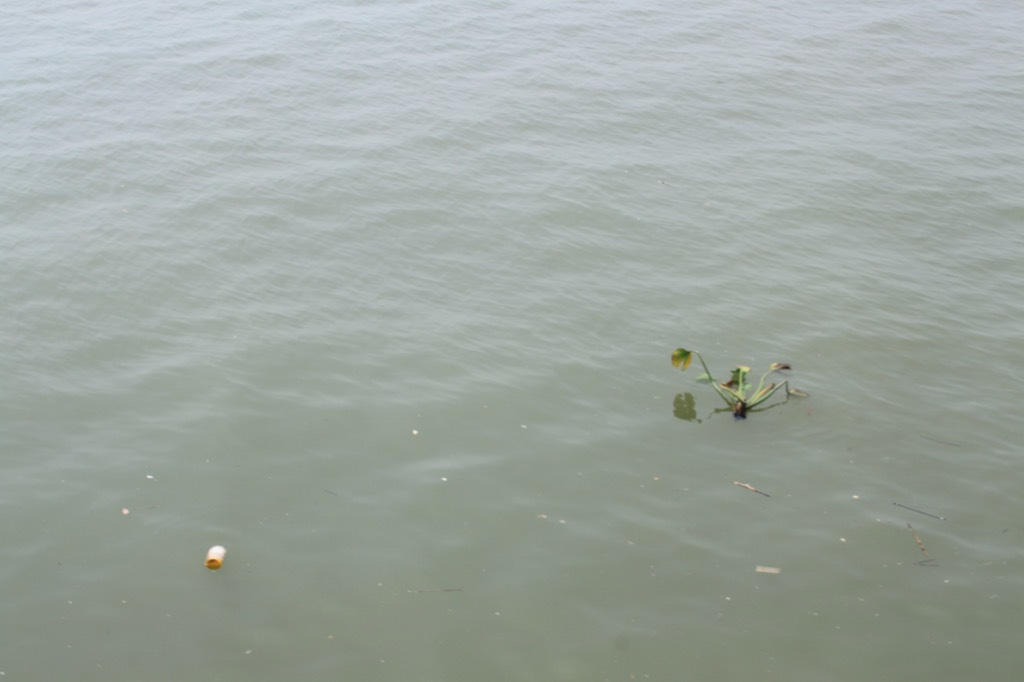organic: (664, 341, 810, 432), (889, 493, 955, 529), (724, 469, 778, 507), (914, 426, 968, 454), (905, 518, 934, 562), (899, 554, 956, 574)
plastic: (202, 540, 230, 577), (752, 559, 782, 579), (117, 502, 131, 518), (142, 470, 158, 484), (407, 424, 422, 437), (438, 474, 449, 486), (837, 534, 848, 545), (850, 492, 860, 501)
